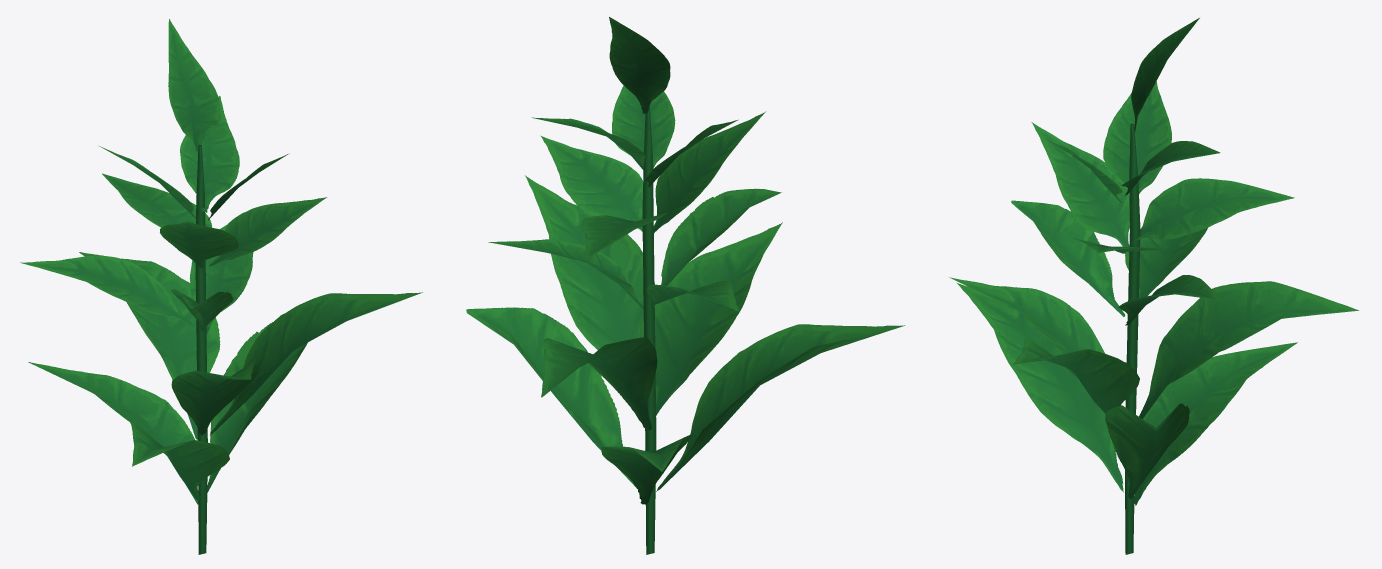
Rendered from MSH_FWOF_Flower_Large_C_05.fbx.
3 renders of one model, left to right at view 1: azimuth 30°, elevation 25°; view 2: azimuth 150°, elevation 25°; view 3: azimuth 270°, elevation 25°, orthographic. The views are drawn at different scales.
Visible parts, largest first — view 1: MSH_FWOF_Flower_Large_C_05; view 2: MSH_FWOF_Flower_Large_C_05; view 3: MSH_FWOF_Flower_Large_C_05.
Part boxes in pixels (x1,y1,x2,y2): MSH_FWOF_Flower_Large_C_05: [20, 19, 422, 554]; MSH_FWOF_Flower_Large_C_05: [466, 17, 905, 554]; MSH_FWOF_Flower_Large_C_05: [949, 18, 1358, 554].
Bounding box in the file's own units: 0.4899 × 0.7328 × 0.5235.
